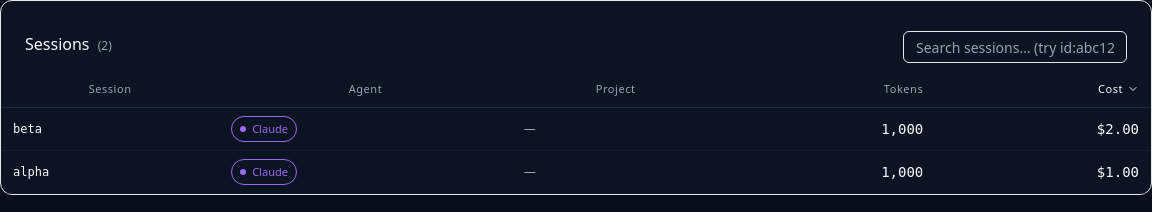
Test: SessionTableV1 — virtualization (Round-1 bug fix #2) › search box narrows the dataset
The width and height of the screenshot is (1152, 212).
In the field labelled "Search sessions": {"x": 1015, "y": 47} [903,31,1127,63], type "alpha"
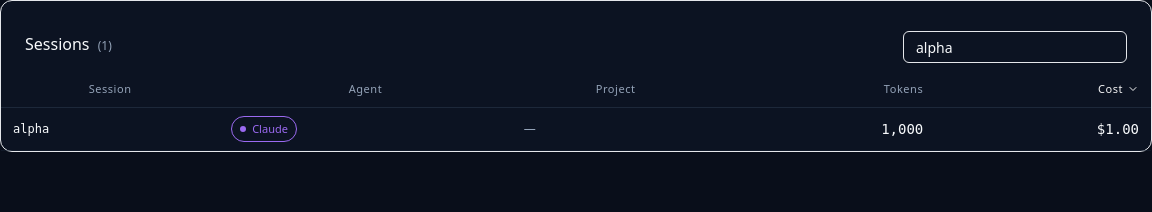
Expected: the number of rows with test id "session-row" is 1, [1,108,1151,150]
